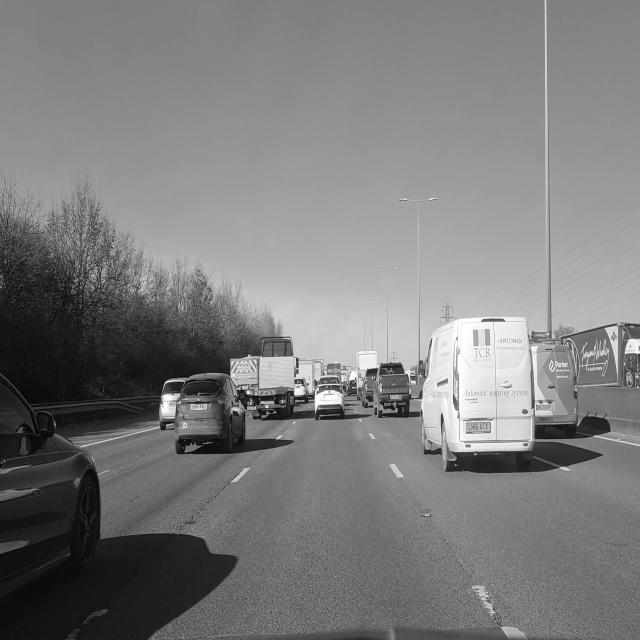car: (0, 375, 100, 596), (421, 318, 534, 471), (175, 373, 245, 453), (531, 343, 578, 437), (374, 363, 410, 418), (159, 378, 186, 430), (315, 377, 344, 419), (361, 367, 377, 408), (295, 378, 308, 402), (347, 379, 357, 396)
